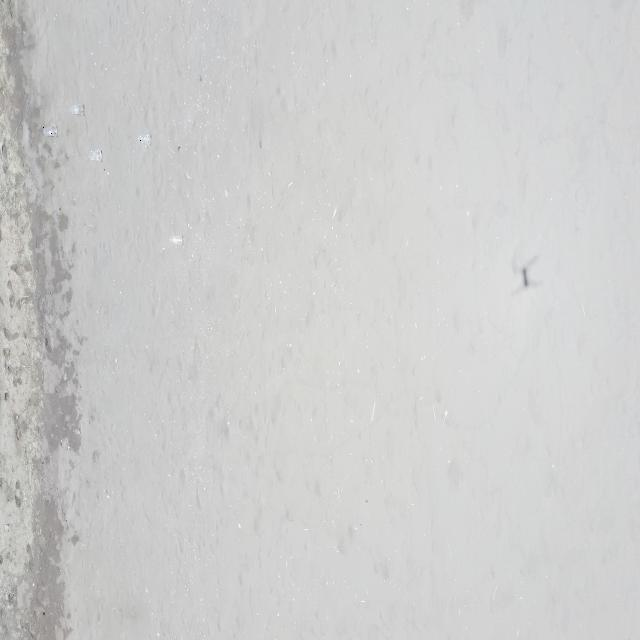takeaway-cup: (70, 102, 84, 116), (43, 124, 57, 137), (88, 149, 102, 162), (169, 234, 183, 246), (138, 134, 151, 146)
